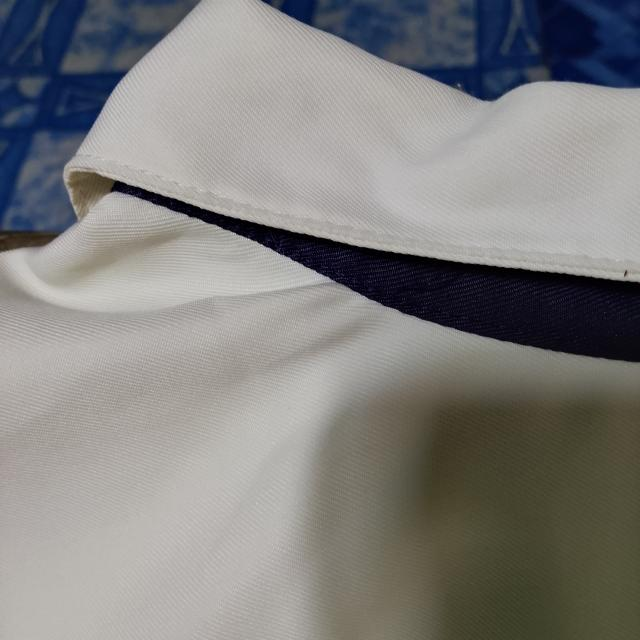education_male_uniform: (1, 3, 640, 391), (0, 249, 610, 640)
